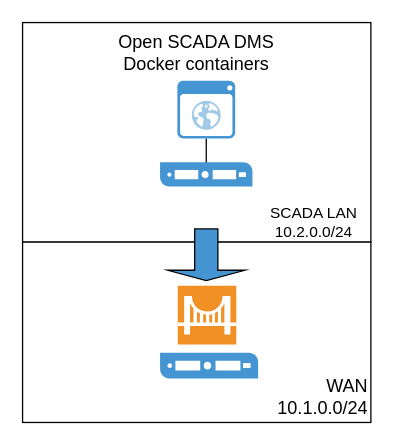
The diagram is 393 pixels wide and 448 high, and some of its shapes have lost their labels. The shapes that lost their labels are listed below. From the top down, each one's centre as x and y in pixels, then its label:
At point 205,174: "Web interface (port 5000)".
At point 208,331: "IEC60870-5-104 test gateway".
